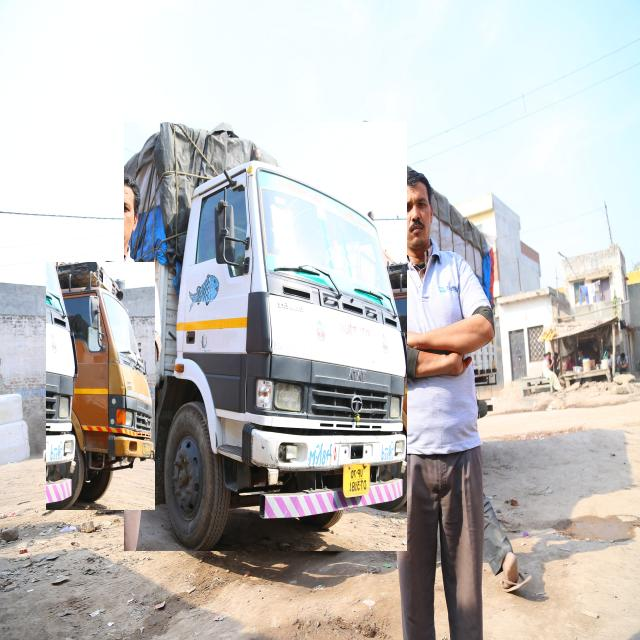truck: (125, 122, 407, 551), (46, 263, 155, 510)
